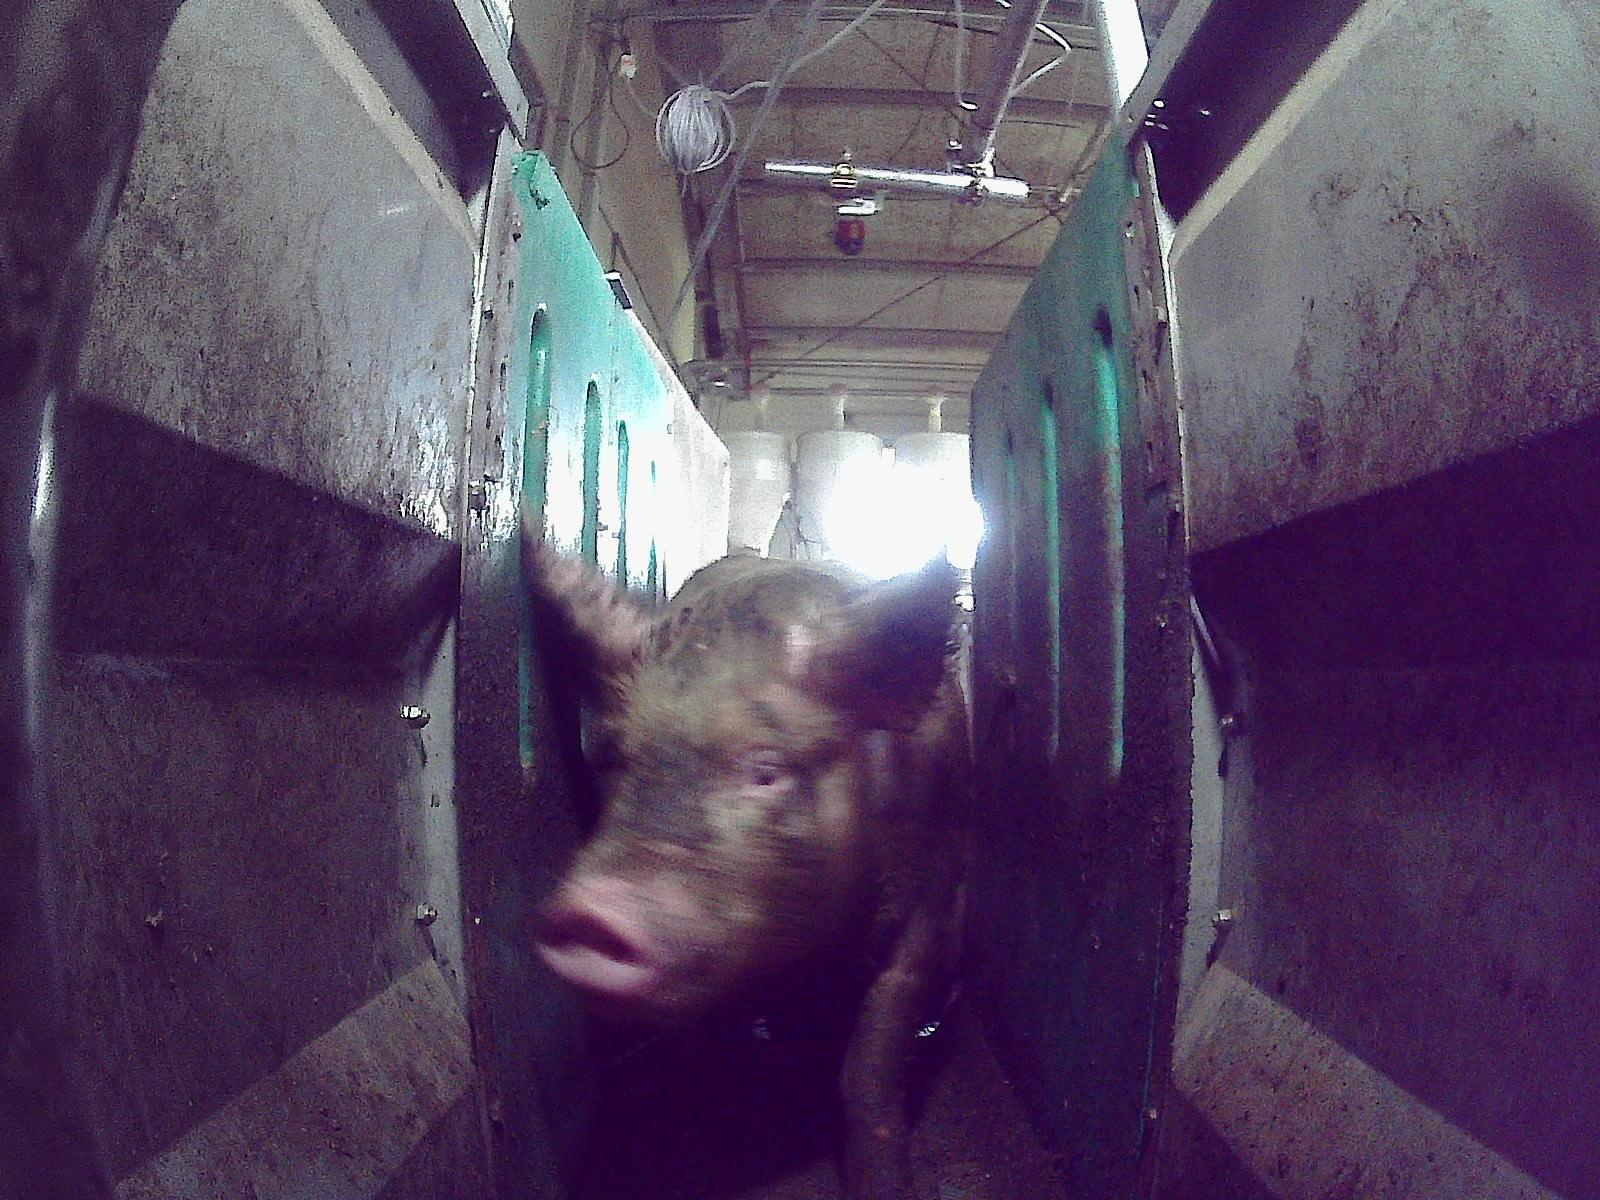Face: (531, 577, 871, 1025)
